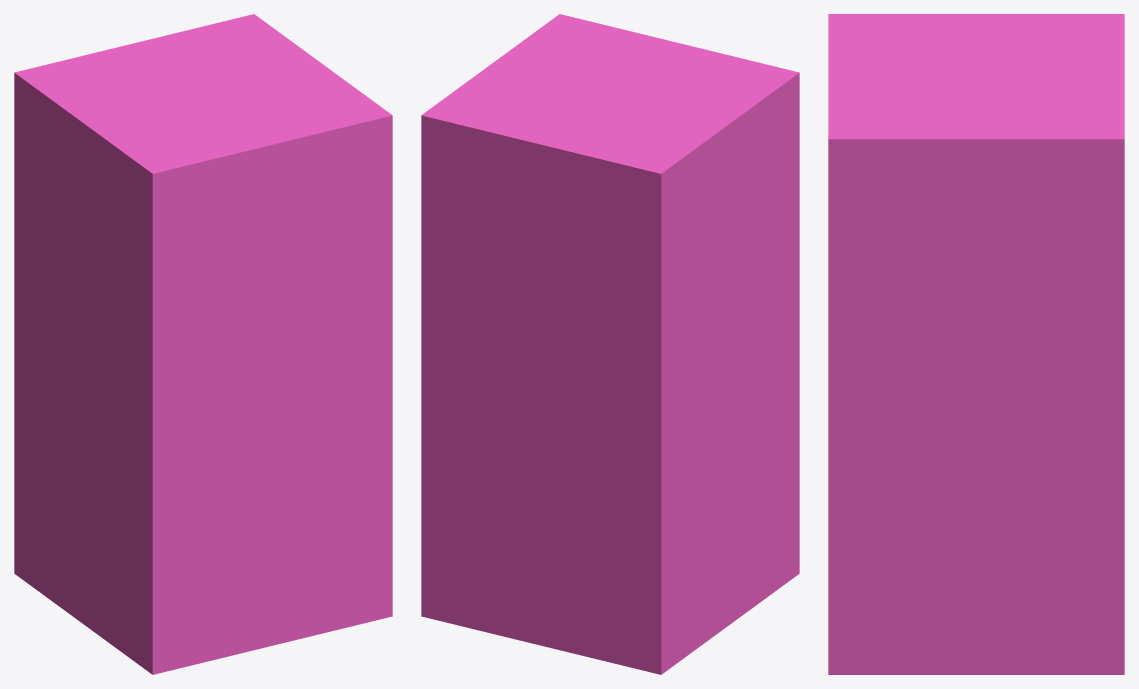
The model's file is PinkThickEdge.fbx.
The picture shows the model from 3 angles, left to right: view 1: azimuth 30°, elevation 25°; view 2: azimuth 150°, elevation 25°; view 3: azimuth 270°, elevation 25°; orthographic projection. The views are drawn at different scales.
Visible parts, largest first — view 1: 4.BODY.green.011; view 2: 4.BODY.green.011; view 3: 4.BODY.green.011.
Boxes of the visible parts, x1,y1,x2,y2 form: 4.BODY.green.011: (14, 14, 392, 674); 4.BODY.green.011: (421, 14, 799, 674); 4.BODY.green.011: (828, 14, 1124, 674).
Size of the model in its own units: 101 by 201 by 101.
